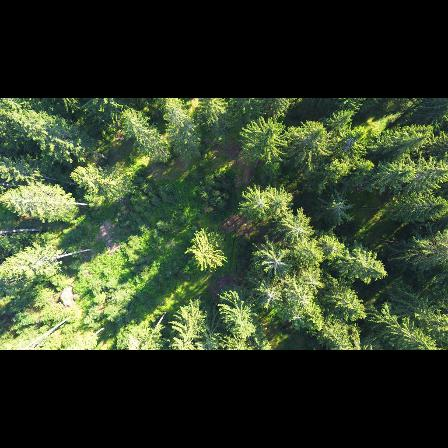Sick: (322, 191, 355, 225), (258, 245, 291, 275), (286, 279, 314, 313), (247, 189, 272, 220), (318, 233, 345, 259), (287, 214, 311, 243), (258, 283, 283, 310)
